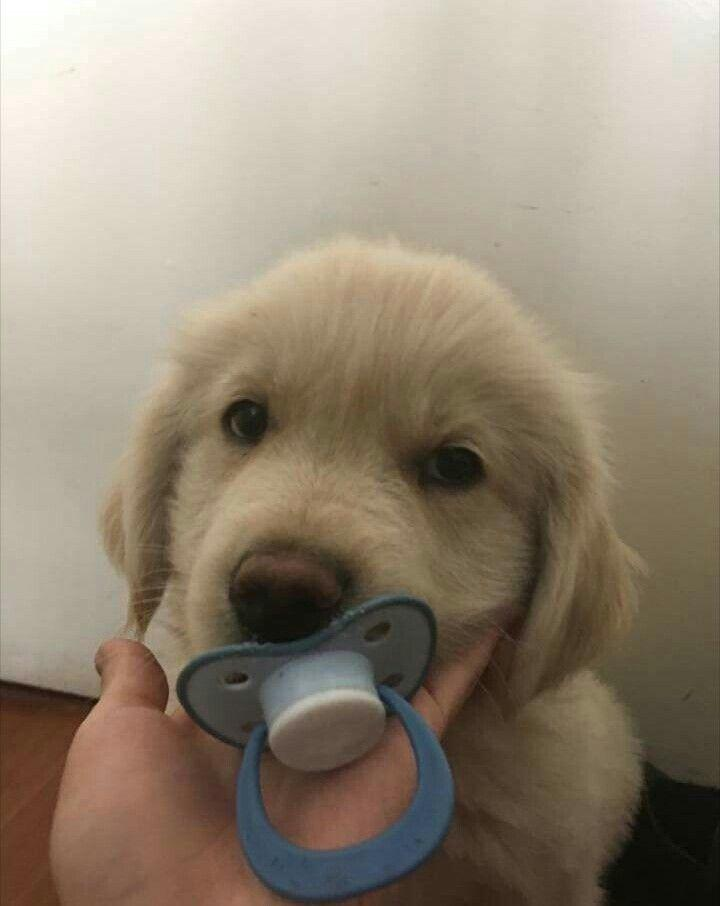puppy-dog: (81, 239, 659, 906)
